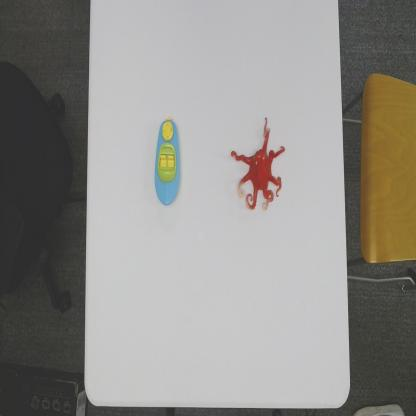Boat: (154, 113, 181, 207)
Octopus: (230, 113, 286, 214)
